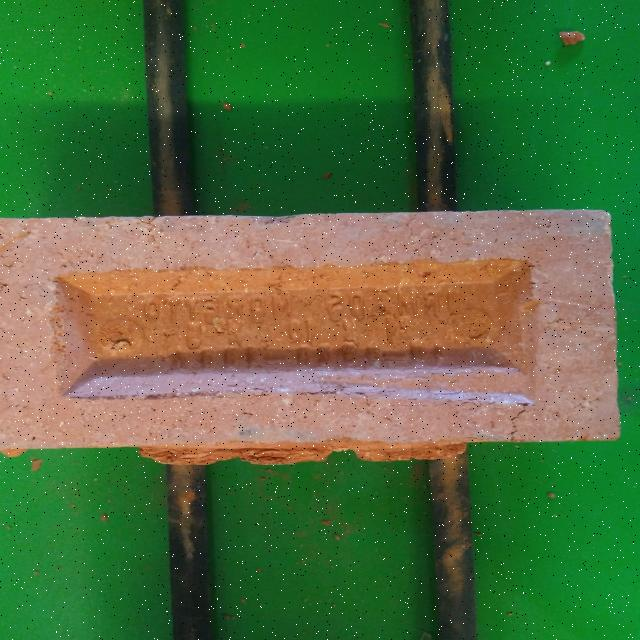bricks_ruin: (0, 211, 621, 466)
